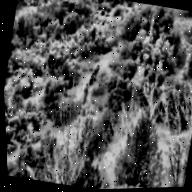boar: (80, 83, 90, 104), (90, 62, 101, 76), (86, 69, 95, 85)
